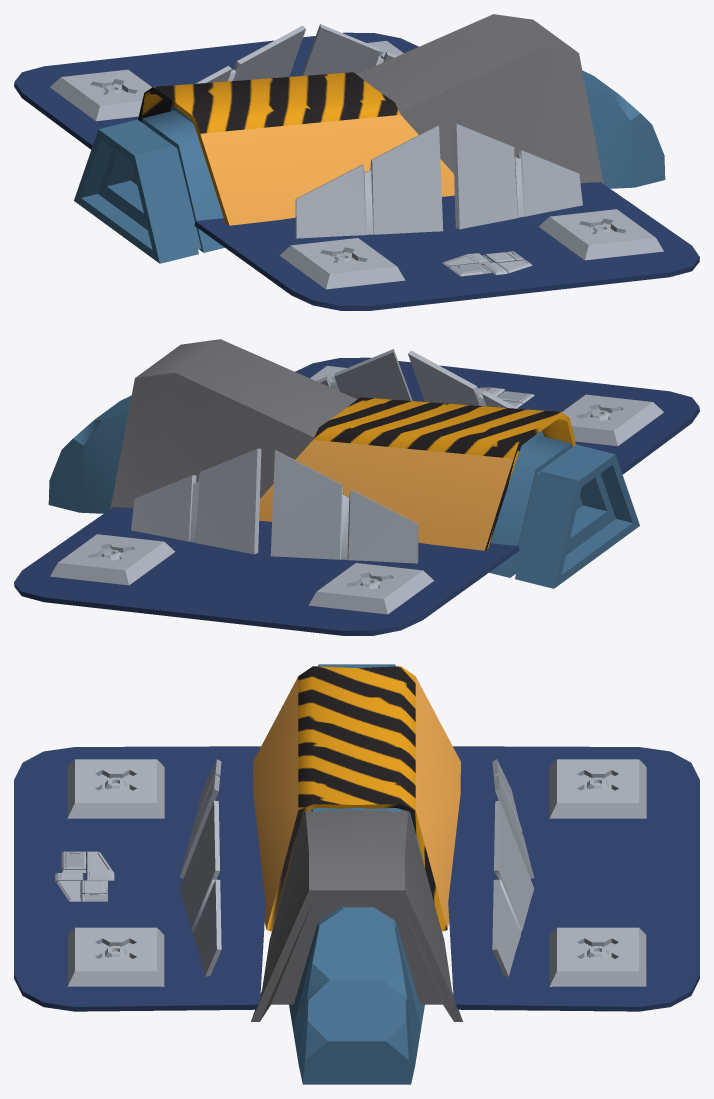
File: flighterroof.fbx
3 renders of one model, top to bottom at view 1: azimuth 30°, elevation 25°; view 2: azimuth 150°, elevation 25°; view 3: azimuth 270°, elevation 25°, orthographic. The views are drawn at different scales.
Parts seen in each view (by area): view 1: roof; view 2: roof; view 3: roof.
Boxes of the visible parts, <box> form: roof: <box>14,14,699,310</box>; roof: <box>14,339,699,635</box>; roof: <box>14,664,699,1084</box>.
Bounding box in the file's own units: 243 × 76.56 × 264.
